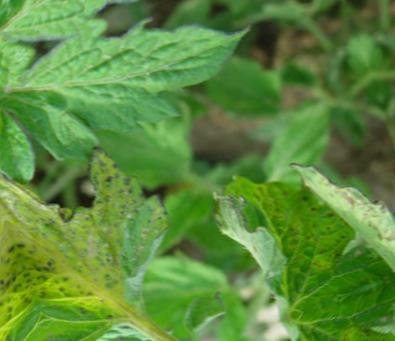Tomato leaf bacterial spot: (0, 0, 277, 210), (175, 84, 395, 336), (0, 94, 210, 341)
